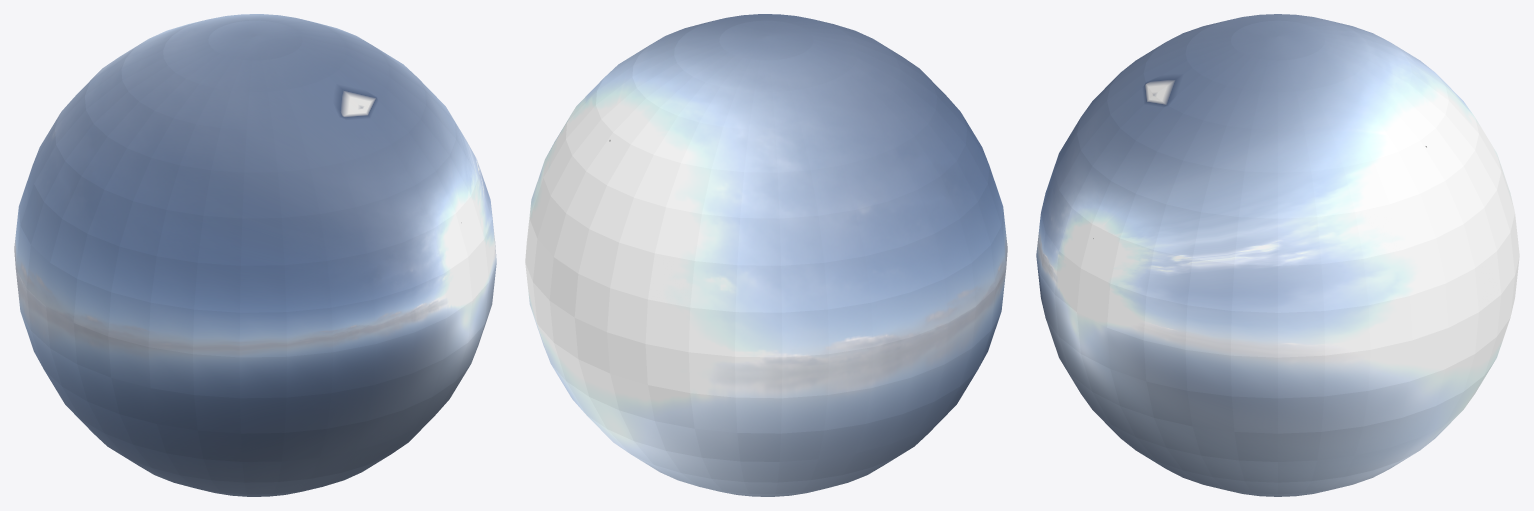
3 renders of one model, left to right at view 1: azimuth 30°, elevation 25°; view 2: azimuth 150°, elevation 25°; view 3: azimuth 270°, elevation 25°, orthographic.
Parts seen in each view (by area): view 1: Sphere; view 2: Sphere; view 3: Sphere.
Boxes of the visible parts, box(x1,y1,x2,y2) form: Sphere: box(14, 14, 496, 496); Sphere: box(525, 14, 1007, 496); Sphere: box(1036, 14, 1519, 496).
Bounding box in the file's own units: 129 × 129 × 129.
Materials: 3 (1 with a texture image).
